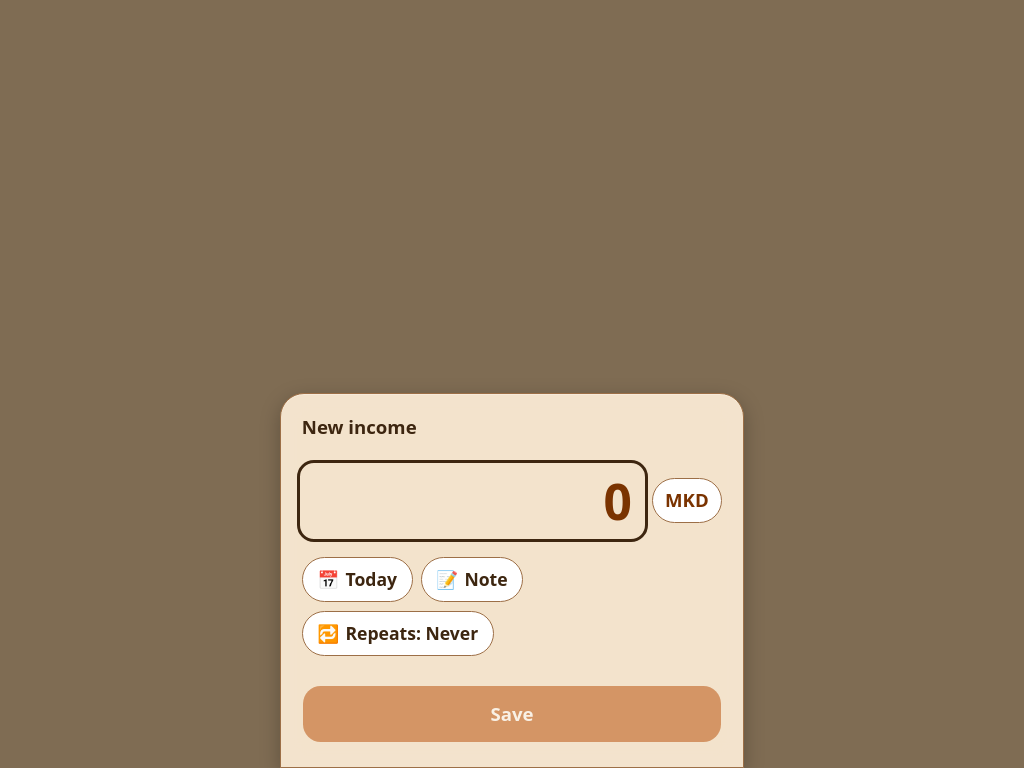
Scenario: PersonalIncomeSheet, the Repeats chip › the chip › writes the Never, Monthly and Weekly labels of the chip in en
What coordinates should you click on to do the following:
click the button "🔁 Repeats: Never"
I would click on:
 (398, 633)
Its box is [302,610,494,656].
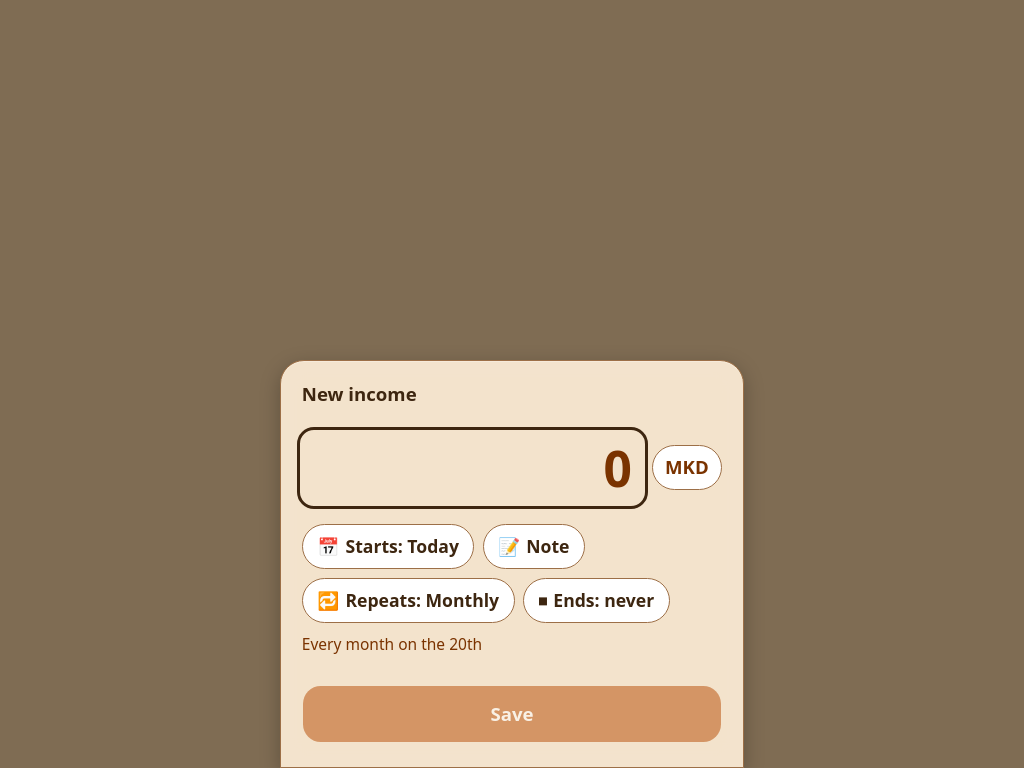
Expected: the button "🔁 Repeats: Monthly" is shown
What coordinates should you click on to do the following:
click the button "🔁 Repeats: Monthly"
I would click on:
 (408, 600)
Its box is [302,578,514,623].
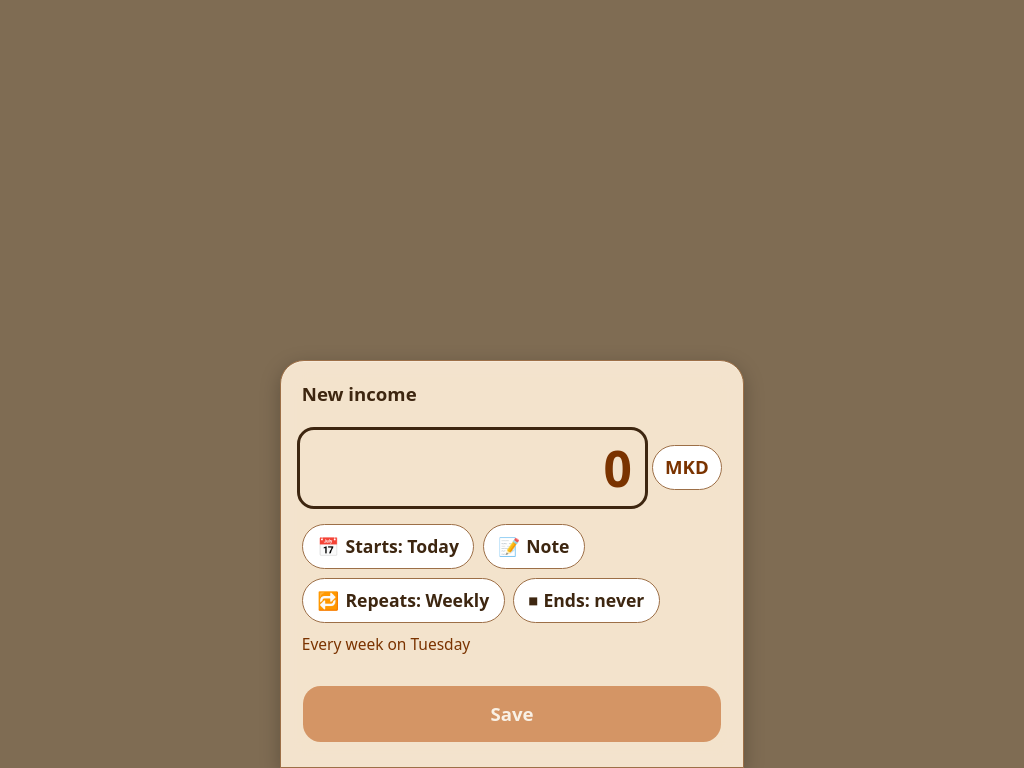
Expected: the button "🔁 Repeats: Weekly" is shown, [302,578,505,623]
